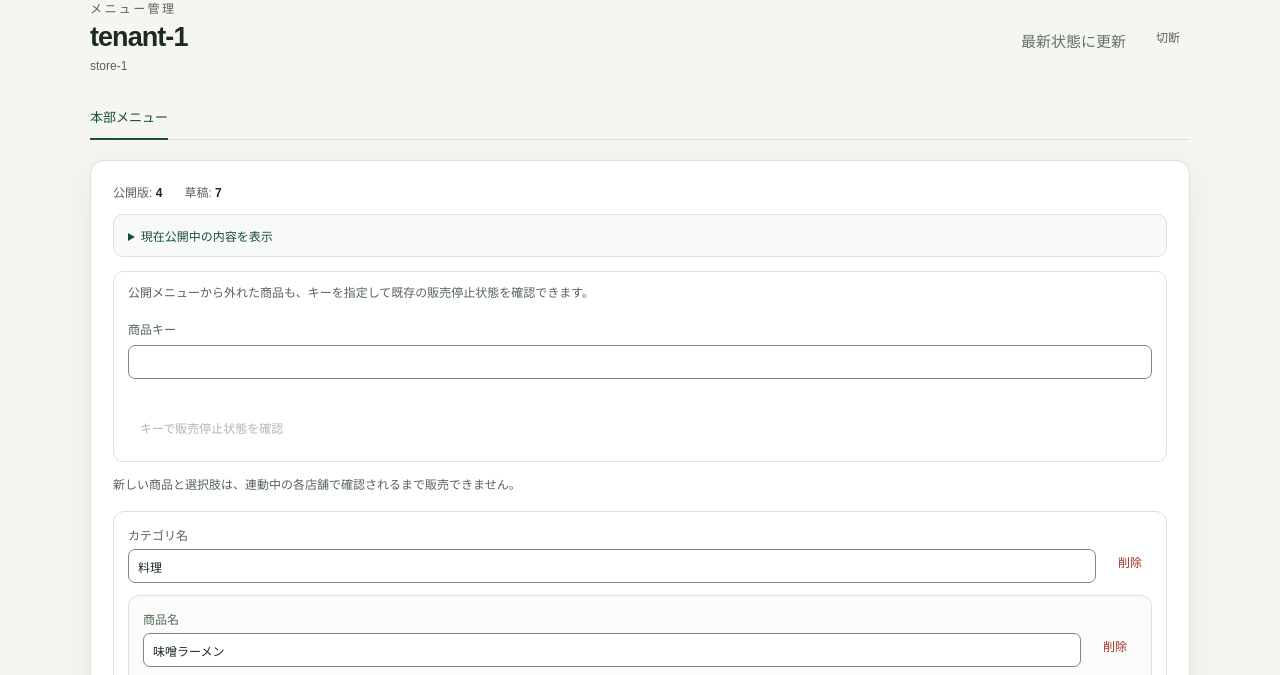
catalog admin UI › saves, previews, and publishes a product when the server omits option_groups
Expected: the button "切断" is shown, [1146,14,1190,58]
Expected: the button "最新状態に更新" is enabled, [1015,28,1132,52]
Replace the text in the field labelled "商品名" with "味噌ラーメン改". click: (612, 650)
box: [143,633,1081,667]
(page scrolled)
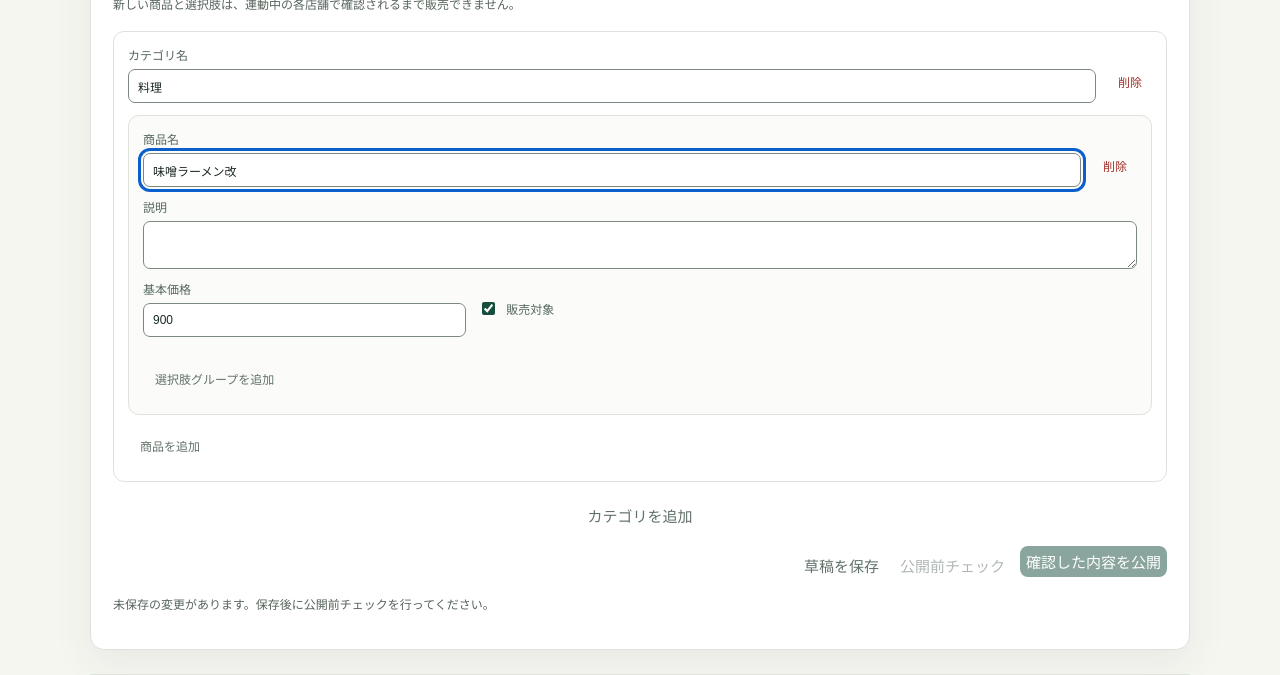
Click the button "草稿を保存". click: (842, 566)
box: [798,554,885,577]
(page scrolled)
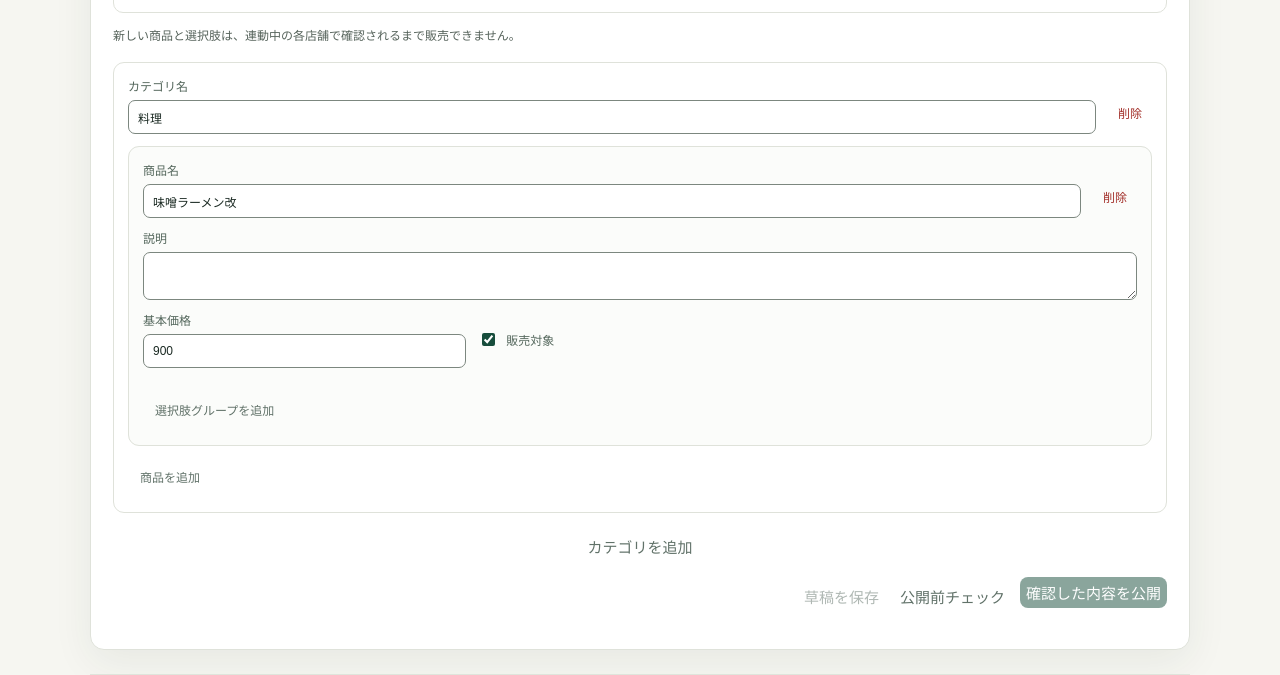
Click the button "公開前チェック". click: (952, 597)
box: [894,585,1011,608]
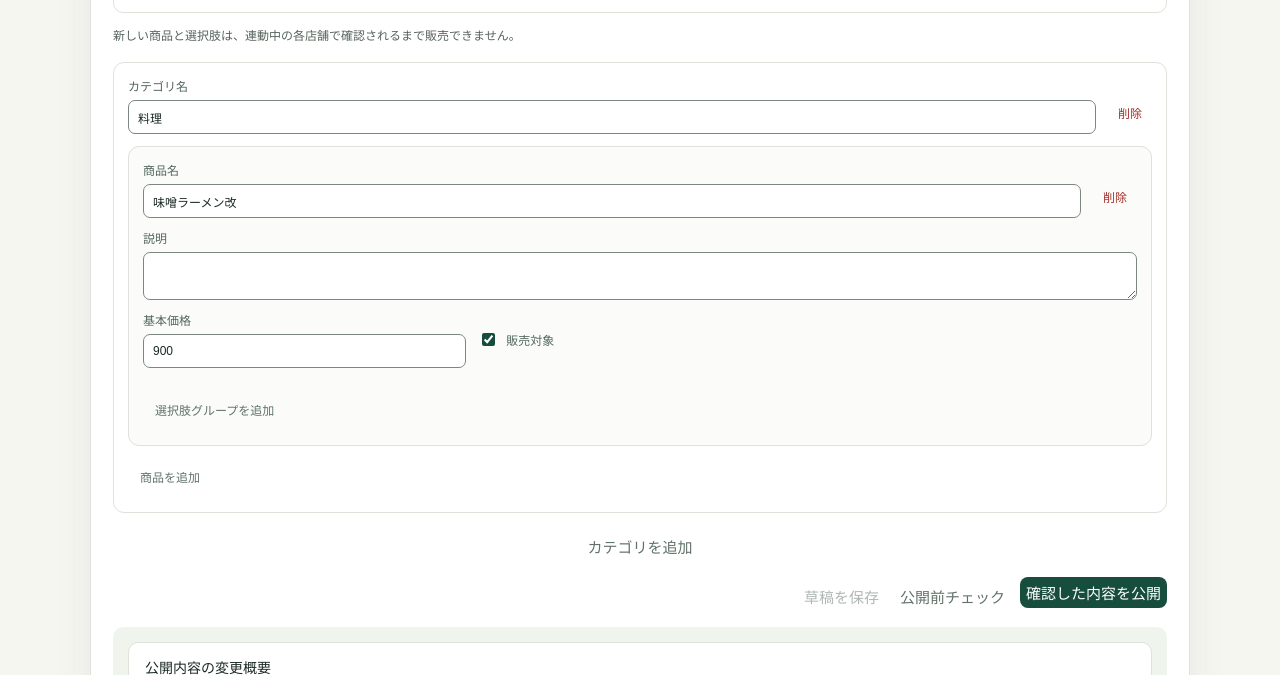
Click the button "確認した内容を公開". click: (1094, 593)
box: [1020,577,1167,608]
(page scrolled)
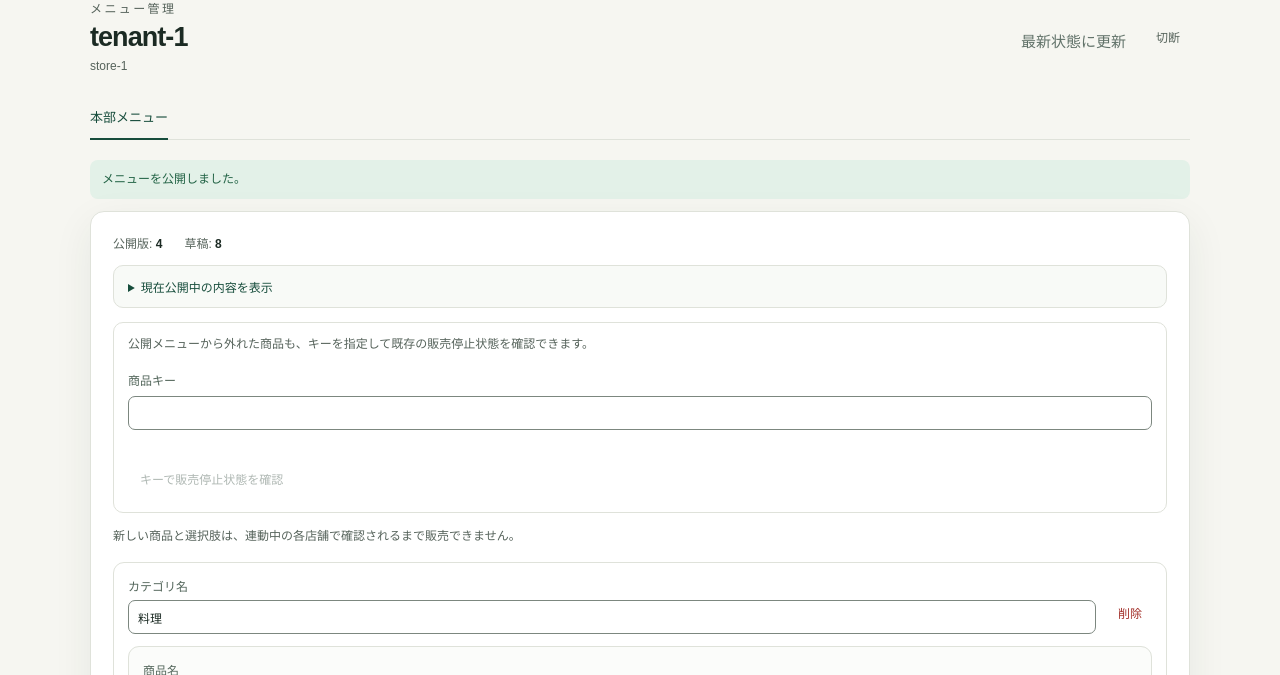
Now the text "メニューを公開しました。" is shown, box [90,160,1190,199]
